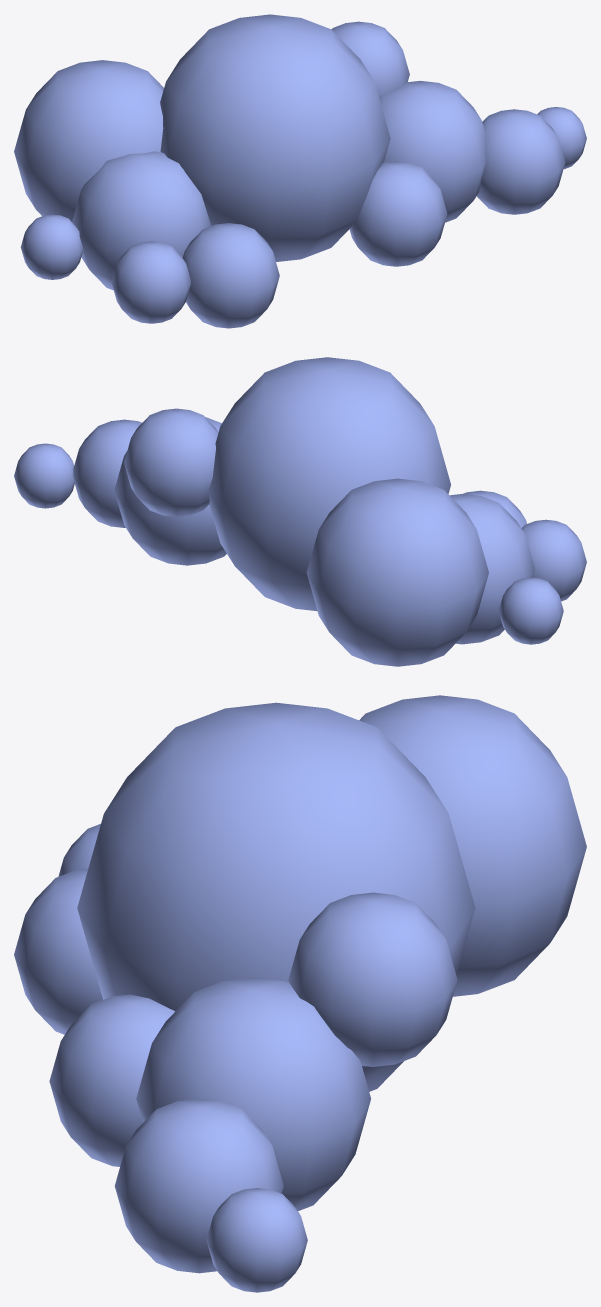
Rendered from Cloud_NightFBX_Lowpoly.fbx.
The picture shows the model from 3 angles, top to bottom: view 1: azimuth 30°, elevation 25°; view 2: azimuth 150°, elevation 25°; view 3: azimuth 270°, elevation 25°; orthographic projection. The views are drawn at different scales.
Parts seen in each view (by area): view 1: Empty_Mesh; view 2: Empty_Mesh; view 3: Empty_Mesh.
Part boxes in pixels (x1,y1,x2,y2): Empty_Mesh: [14, 14, 586, 328]; Empty_Mesh: [14, 357, 586, 666]; Empty_Mesh: [14, 695, 586, 1292].
Size of the model in its own units: 8.8 by 3.6 by 4.87.
